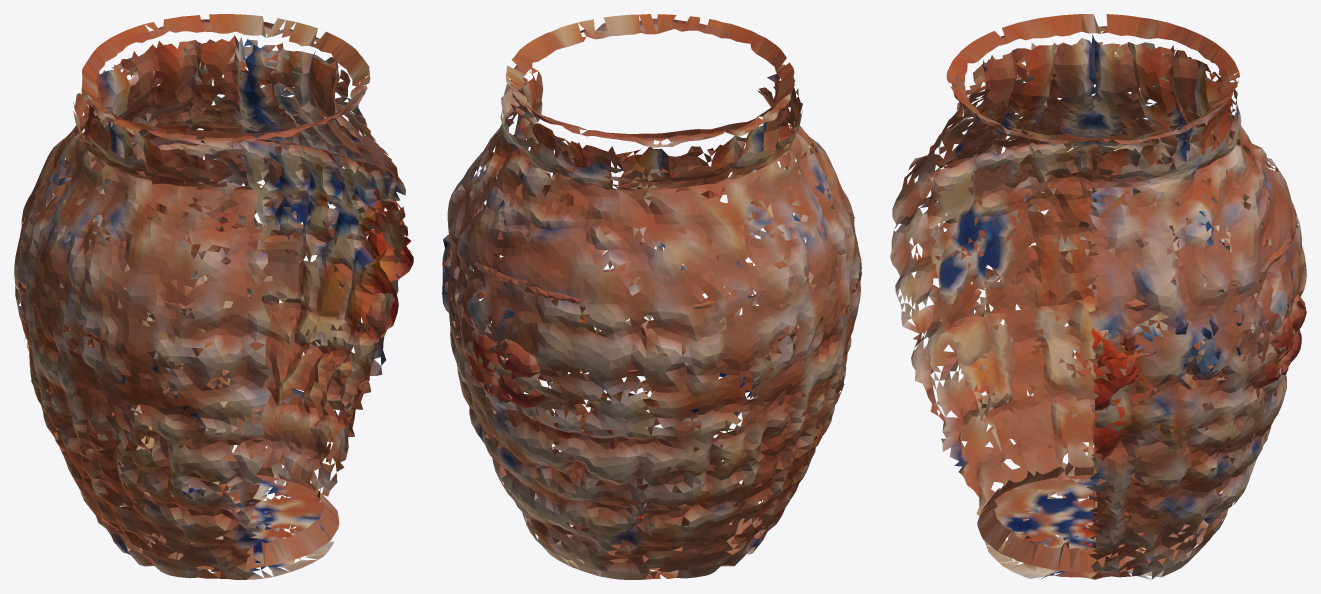
The model's file is vase2_final300.obj.
3 renders of one model, left to right at view 1: azimuth 30°, elevation 25°; view 2: azimuth 150°, elevation 25°; view 3: azimuth 270°, elevation 25°, orthographic.
Bounding box in the file's own units: 1.44 × 1.74 × 1.39.
